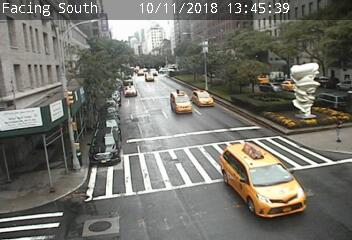car: (221, 143, 306, 218), (89, 127, 120, 165), (309, 91, 352, 111), (170, 91, 191, 113), (190, 90, 213, 108), (259, 82, 282, 93), (280, 80, 301, 92), (123, 86, 136, 96)
